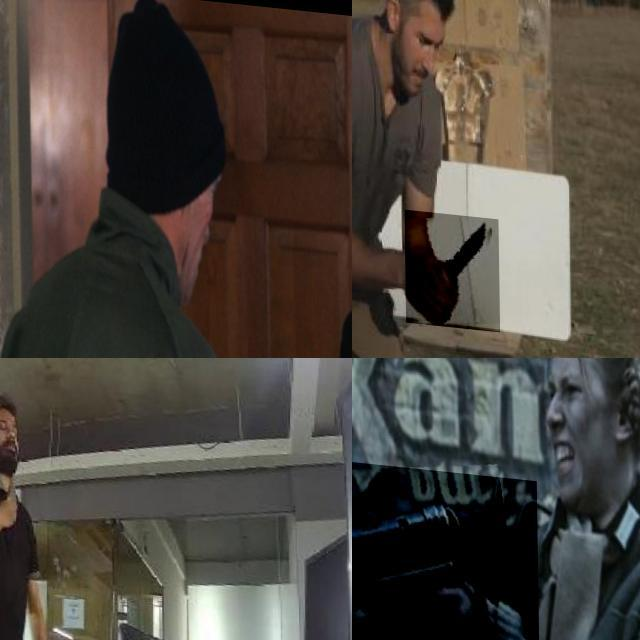-: (404, 202, 498, 322)
gun-knife-thesis - v11 Yolov5 augmented: (352, 437, 558, 640)
